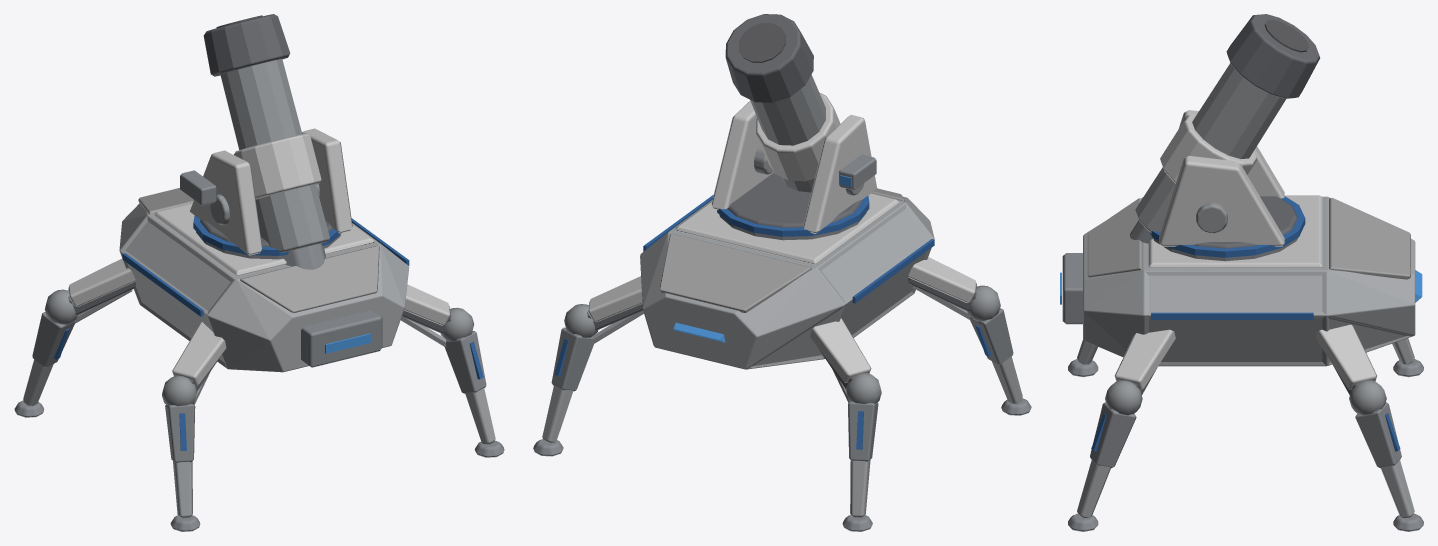
File: lattice_mortar_bot.glb
3 views of the same model, side by side, from view 1: azimuth 30°, elevation 25°; view 2: azimuth 150°, elevation 25°; view 3: azimuth 270°, elevation 25° (orthographic). The views are drawn at different scales.
Parts seen in each view (by area): view 1: Body, Turret; view 2: Body, Turret; view 3: Body, Turret.
Part boxes in pixels (left/top/right/bottom): Body: left=14, top=188, right=504, bottom=531; Turret: left=180, top=14, right=352, bottom=269; Body: left=533, top=188, right=1031, bottom=531; Turret: left=711, top=14, right=877, bottom=240; Body: left=1060, top=195, right=1423, bottom=531; Turret: left=1130, top=14, right=1319, bottom=261.
Size of the model in its own units: 1.17 by 1.39 by 1.07.
